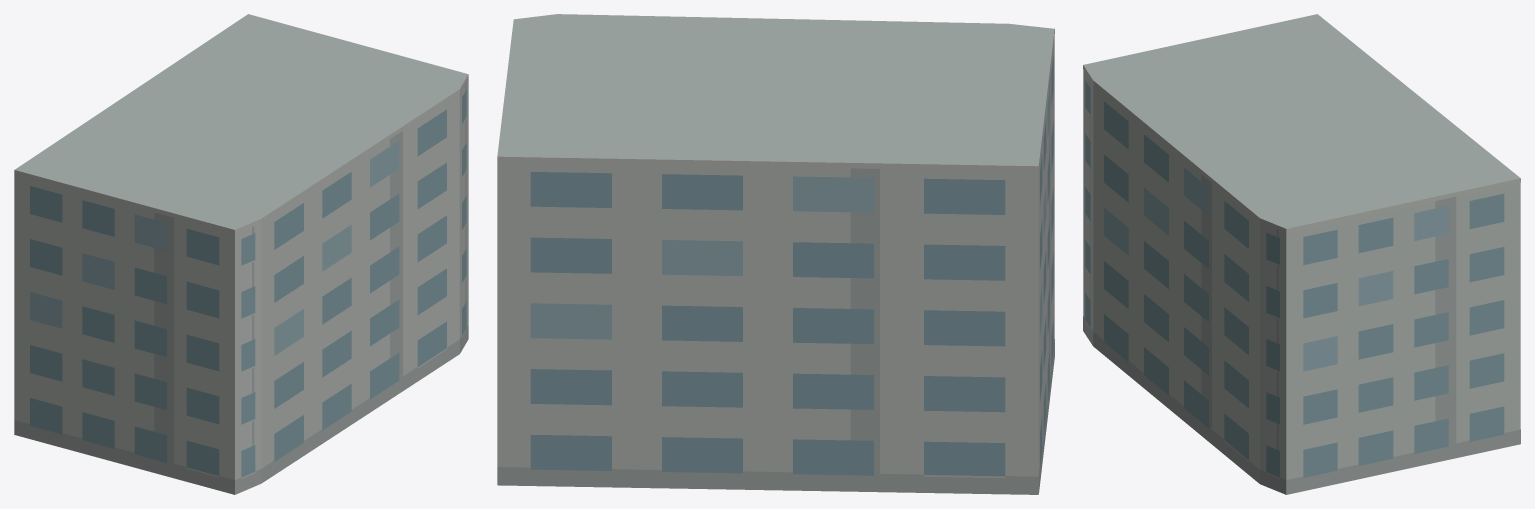
Rendered from survey-upis-32836021.glb.
The picture shows the model from 3 angles, left to right: view 1: azimuth 30°, elevation 25°; view 2: azimuth 150°, elevation 25°; view 3: azimuth 270°, elevation 25°; orthographic projection. The views are drawn at different scales.
Parts seen in each view (by area): view 1: survey-upis-32836021.tmp; view 2: survey-upis-32836021.tmp; view 3: survey-upis-32836021.tmp.
Boxes of the visible parts, left/top/right/bottom form: survey-upis-32836021.tmp: left=14, top=14, right=468, bottom=494; survey-upis-32836021.tmp: left=497, top=14, right=1054, bottom=494; survey-upis-32836021.tmp: left=1083, top=14, right=1520, bottom=494.
Size of the model in its own units: 25.66 by 14.8 by 22.08.
